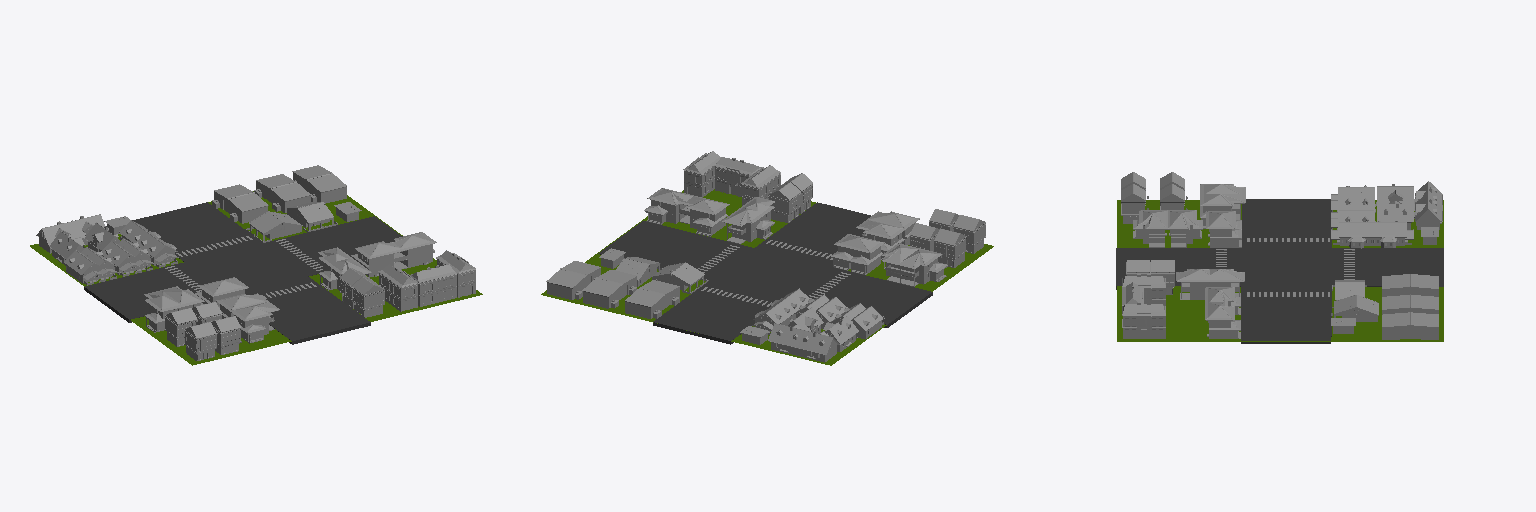
File: street.obj
3 views of the same model, side by side, from view 1: azimuth 30°, elevation 25°; view 2: azimuth 150°, elevation 25°; view 3: azimuth 270°, elevation 25° (orthographic).
Visible parts, largest first — view 1: Line002, Plane001, City_building_026, City_building_022, City_building_007, City_building_038, City_building_016, City_building_011, City_building_023, City_building_004, City_building_010, City_building_014 (+15 smaller); view 2: Line002, Plane001, City_building_026, City_building_038, City_building_033, City_building_034, City_building_037, City_building_022, City_building_007, City_building_011, City_building_023, City_building_014 (+13 smaller); view 3: Line002, Plane001, City_building_022, City_building_014, City_building_026, City_building_017, City_building_023, City_building_034, City_building_038, City_building_037, City_building_007, City_building_033 (+12 smaller).
Boxes of the visible parts, x1=… form: Line002: x1=84, y1=202, x2=402, y2=344; Plane001: x1=30, y1=191, x2=482, y2=365; City_building_026: x1=351, y1=232, x2=436, y2=277; City_building_022: x1=216, y1=293, x2=279, y2=343; City_building_007: x1=212, y1=184, x2=268, y2=223; City_building_038: x1=144, y1=286, x2=204, y2=332; City_building_016: x1=410, y1=264, x2=456, y2=306; City_building_011: x1=254, y1=174, x2=310, y2=212; City_building_023: x1=292, y1=165, x2=346, y2=203; City_building_004: x1=64, y1=247, x2=118, y2=285; City_building_010: x1=378, y1=264, x2=418, y2=311; City_building_014: x1=118, y1=220, x2=178, y2=267; Line002: x1=598, y1=202, x2=932, y2=344; Plane001: x1=541, y1=189, x2=993, y2=365; City_building_026: x1=644, y1=188, x2=729, y2=236; City_building_038: x1=882, y1=243, x2=947, y2=286; City_building_033: x1=768, y1=323, x2=839, y2=362; City_building_034: x1=722, y1=197, x2=774, y2=244; City_building_037: x1=831, y1=234, x2=884, y2=274; City_building_022: x1=856, y1=211, x2=919, y2=259; City_building_007: x1=625, y1=280, x2=679, y2=318; City_building_011: x1=582, y1=270, x2=636, y2=308; City_building_023: x1=546, y1=261, x2=600, y2=299; City_building_014: x1=752, y1=288, x2=810, y2=334; Line002: x1=1116, y1=199, x2=1443, y2=343; Plane001: x1=1117, y1=200, x2=1443, y2=341; City_building_022: x1=1133, y1=210, x2=1202, y2=247; City_building_014: x1=1331, y1=221, x2=1413, y2=248; City_building_026: x1=1205, y1=287, x2=1240, y2=338; City_building_017: x1=1122, y1=303, x2=1165, y2=338; City_building_023: x1=1382, y1=312, x2=1438, y2=339; City_building_034: x1=1176, y1=269, x2=1244, y2=299; City_building_038: x1=1200, y1=184, x2=1245, y2=228; City_building_037: x1=1206, y1=211, x2=1241, y2=247; City_building_007: x1=1382, y1=274, x2=1438, y2=296; City_building_033: x1=1414, y1=181, x2=1442, y2=229.
Bounding box in the file's own units: 96.86 × 11.25 × 94.37.